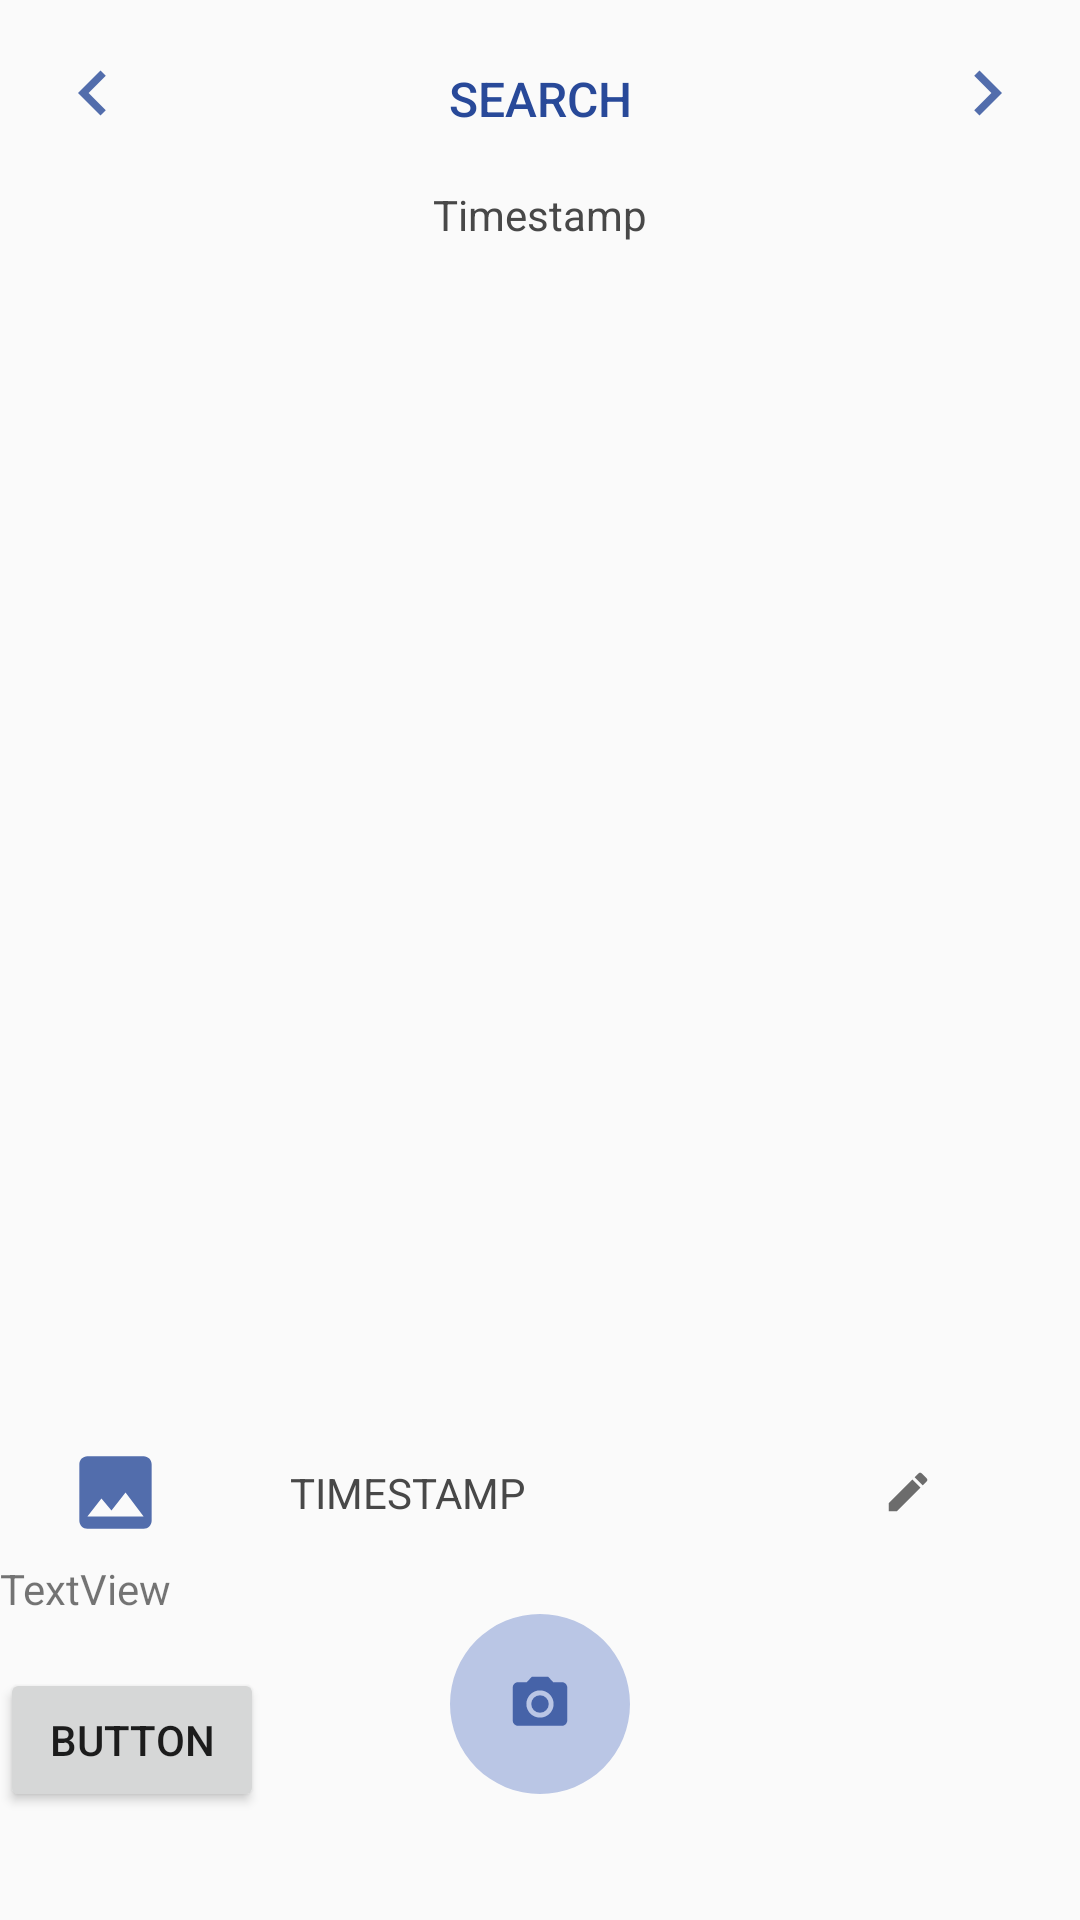

Icons on this 1080*1920 Android screen, each with its box as (x1, y1, x2, y2):
camera: (450, 1614, 630, 1794)
gallery: (79, 1456, 152, 1529)
left: (78, 70, 106, 116)
right: (974, 70, 1002, 116)
